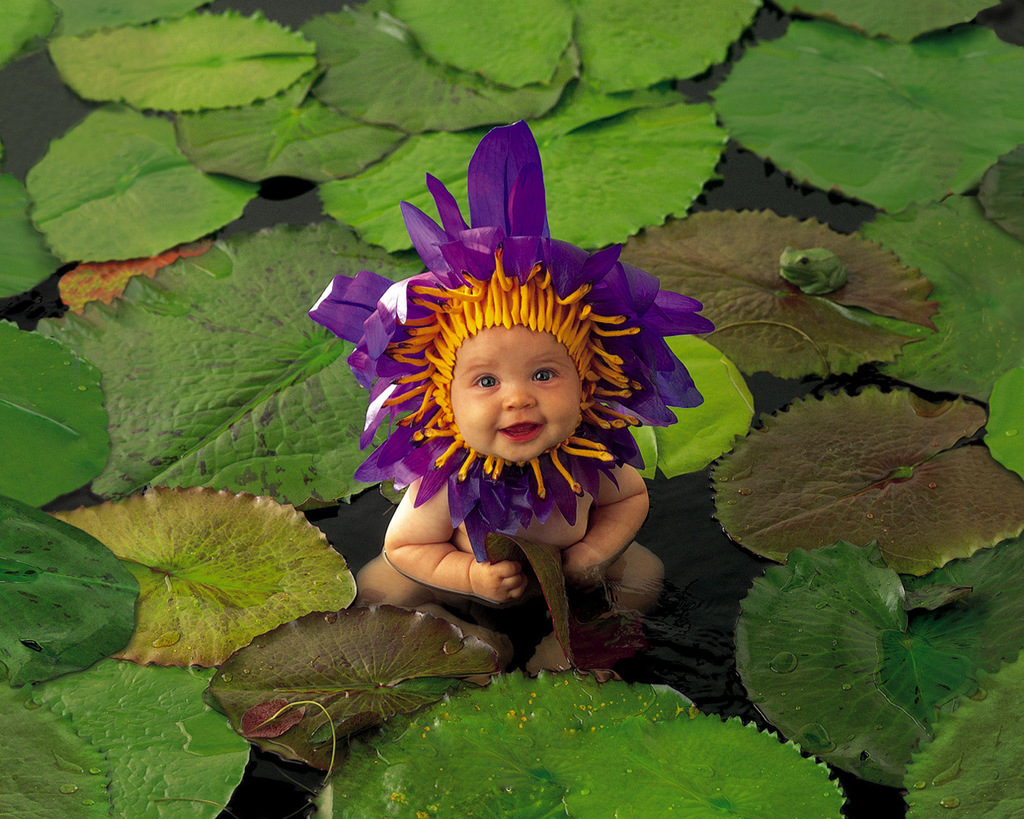Person: (349, 114, 672, 691)
